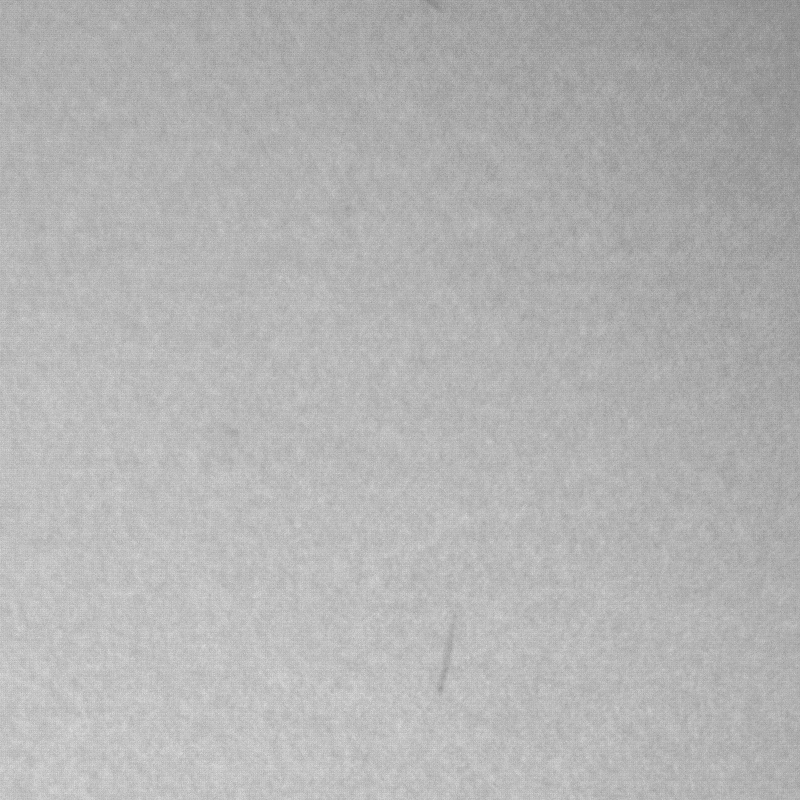defect: (436, 622, 454, 697)
